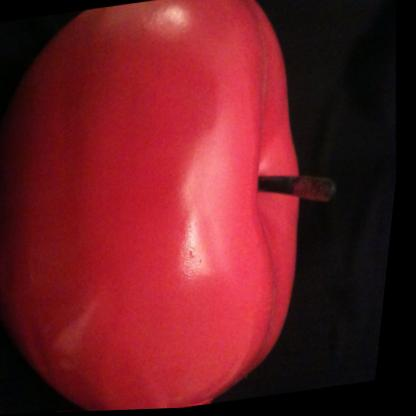--: (0, 0, 371, 416)
